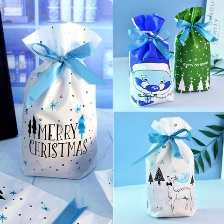snack: (13, 16, 111, 185), (123, 112, 199, 221), (119, 9, 178, 109), (167, 2, 221, 95)
